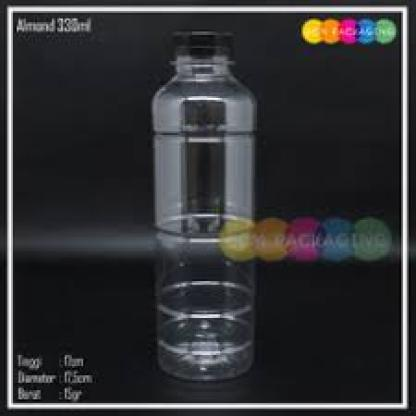Glass Bottle: (145, 28, 270, 384)
